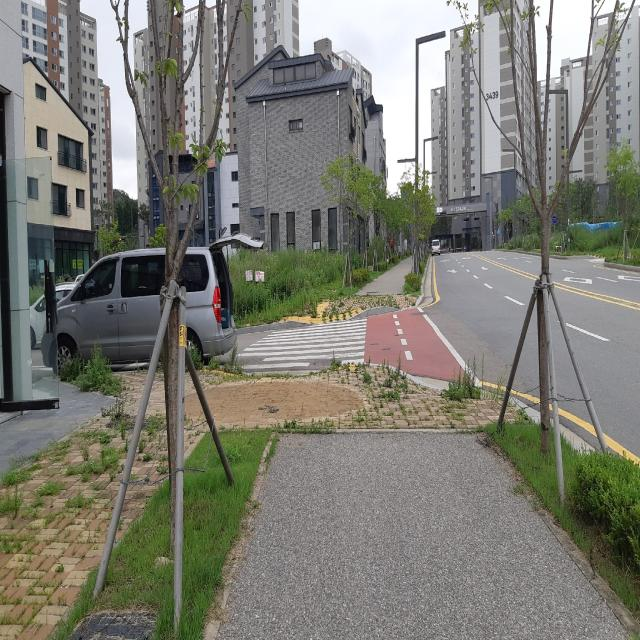횡단보도: (220, 316, 368, 369)
